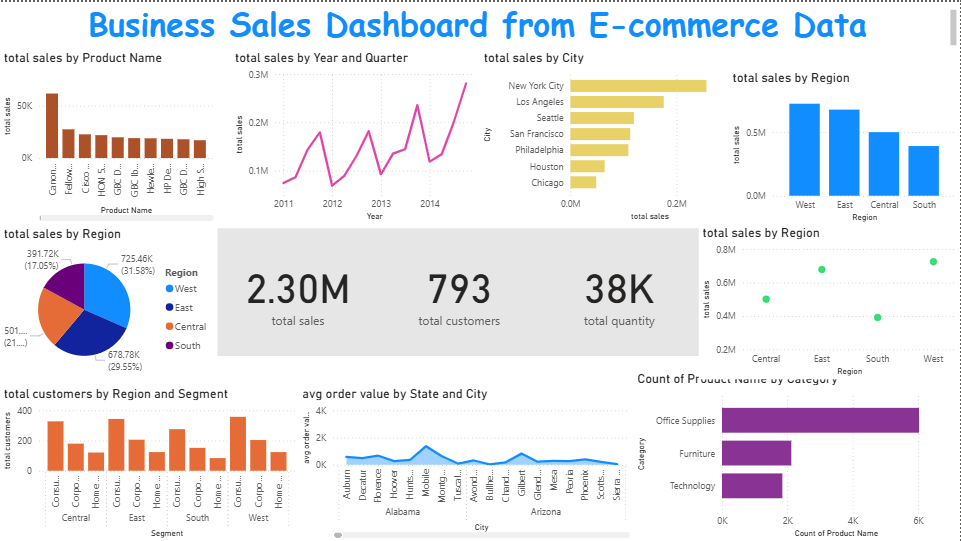

What the dashboard file says about the page in this screenshot:
{"tool":"powerbi","page":{"name":"Page 1","canvas":[1280,720],"ordinal":0},"visuals":[{"type":"textbox","box":[0,0,1280.3,63.1],"z":0},{"type":"columnChart","fields":{"Y":["Orders.total sales"],"Category":["Orders.Product Name"]},"box":[0,63.8,290,233.8],"z":1000},{"type":"lineChart","fields":{"Y":["Orders.total sales"],"Category":["Orders.Order Date.Variation.Date Hierarchy.Year","Orders.Order Date.Variation.Date Hierarchy.Quarter","Orders.Order Date.Variation.Date Hierarchy.Month","Orders.Order Date.Variation.Date Hierarchy.Day"]},"box":[308.8,63.8,331.2,233.8],"z":2000},{"type":"clusteredBarChart","fields":{"Category":["Orders.City"],"Y":["Orders.total sales"]},"box":[640,63.8,360,233.8],"z":3000},{"type":"pieChart","fields":{"Y":["Orders.total sales"],"Category":["Orders.Region"]},"box":[0,297.5,290,205],"z":4000},{"type":"card","fields":{"Values":["Orders.total sales"]},"box":[290,301.7,215,170],"z":5000},{"type":"actionButton","box":[0,0,100,40],"z":6000},{"type":"card","fields":{"Values":["Orders.total customers"]},"box":[505,301.7,215,170],"z":7000},{"type":"card","fields":{"Values":["Orders.total quantity"]},"box":[720,301.7,211.7,170],"z":8000},{"type":"clusteredColumnChart","fields":{"Category":["Orders.Region"],"Y":["Orders.total sales"]},"box":[971.7,90,308.3,208.3],"z":9000},{"type":"barChart","fields":{"Category":["Orders.Category"],"Y":["CountNonNull(Orders.Product Name)"]},"box":[845,491.7,435,228.3],"z":10000},{"type":"scatterChart","fields":{"Y":["Orders.total sales"],"X":["Orders.Region"]},"box":[931.7,296.7,348.3,206.7],"z":11000},{"type":"columnChart","fields":{"Y":["Orders.total customers"],"Category":["Orders.Region","Orders.Segment"]},"box":[0,511.7,398.3,208.3],"z":12000},{"type":"areaChart","fields":{"Y":["Orders.avg order value"],"Category":["Orders.State","Orders.City"]},"box":[398.3,511.7,446.7,208.3],"z":13000}]}

Visuals, with their boxes in screenshot pixels (x1, y1, x2, y2), scaled from the page's 1280x720 canvas onto the 961x541 screenshot:
textbox: bbox(0, 0, 960, 47)
columnChart - Orders.total sales x Orders.Product Name: bbox(0, 48, 218, 224)
lineChart - Orders.total sales x Orders.Order Date.Variation.Date Hierarchy.Year: bbox(232, 48, 480, 224)
clusteredBarChart - Orders.City x Orders.total sales: bbox(480, 48, 751, 224)
pieChart - Orders.total sales x Orders.Region: bbox(0, 224, 218, 378)
card - Orders.total sales: bbox(218, 227, 379, 354)
actionButton: bbox(0, 0, 75, 30)
card - Orders.total customers: bbox(379, 227, 541, 354)
card - Orders.total quantity: bbox(541, 227, 700, 354)
clusteredColumnChart - Orders.Region x Orders.total sales: bbox(730, 68, 960, 224)
barChart - Orders.Category x CountNonNull(Orders.Product Name): bbox(634, 369, 960, 540)
scatterChart - Orders.total sales x Orders.Region: bbox(700, 223, 960, 378)
columnChart - Orders.total customers x Orders.Region: bbox(0, 384, 299, 540)
areaChart - Orders.avg order value x Orders.State: bbox(299, 384, 634, 540)
